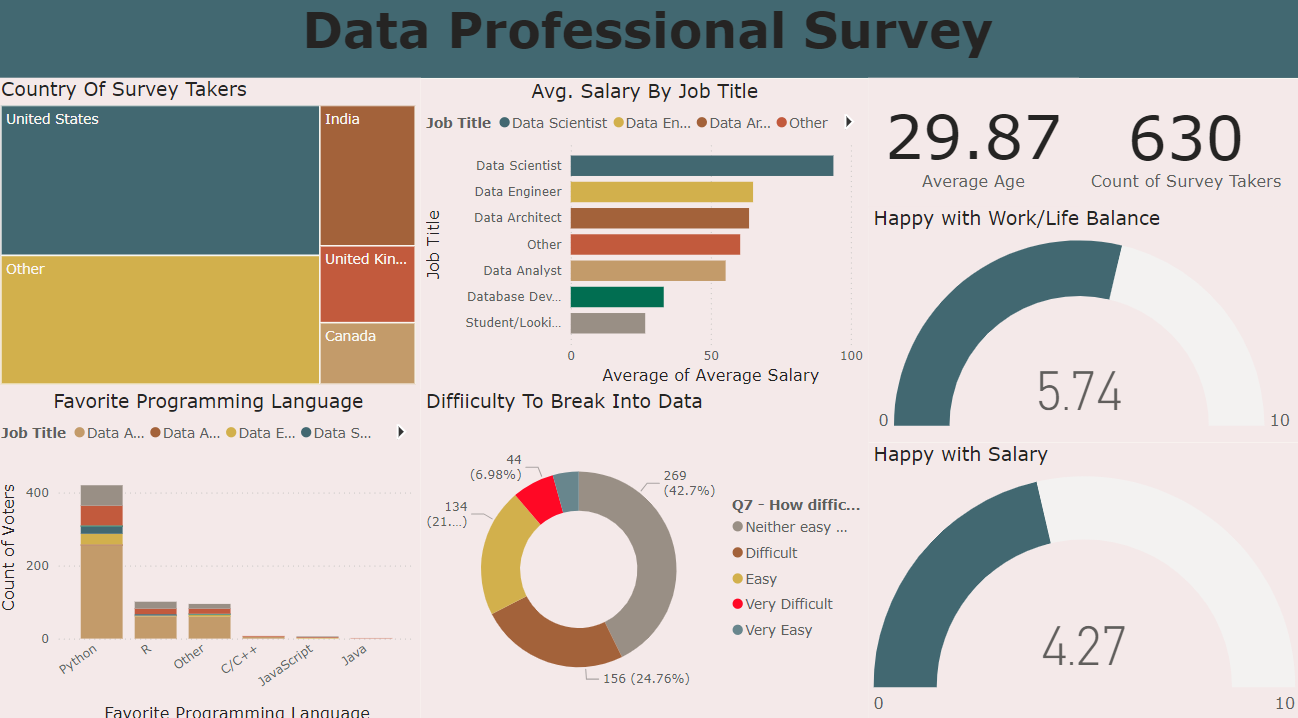

The page's visual inventory and layout, read from the dashboard file:
{"tool":"powerbi","page":{"name":"Page 1","canvas":[1280,720],"ordinal":0},"visuals":[{"type":"textbox","box":[0,0,1279.5,82.1],"z":0},{"type":"card","fields":{"Values":["Count(Data Professional Survey.Unique ID)"]},"box":[1056.1,83.3,223.9,125.6],"z":1000},{"type":"card","fields":{"Values":["Avg(Data Professional Survey.Q10 - Current Age)"]},"box":[855.8,82.1,206.5,126.9],"z":2000},{"type":"barChart","title":"Avg. Salary By Job Title","fields":{"Category":["Data Professional Survey.Q1 - Which Title Best Fits your Current Role?.1"],"Y":["Avg(Data Professional Survey.Average Salary)"],"Series":["Data Professional Survey.Q1 - Which Title Best Fits your Current Role?.1"]},"box":[416.7,83.3,439.1,304.8],"z":3000},{"type":"columnChart","title":"Favorite Programming Language","fields":{"Category":["Data Professional Survey.Q5 - Favorite Programming Language.1"],"Y":["CountNonNull(Data Professional Survey.Unique ID)"],"Series":["Data Professional Survey.Q1 - Which Title Best Fits your Current Role?.1"]},"box":[0,388.1,416.7,332.1],"z":4000},{"type":"treemap","title":"Country Of Survey Takers","fields":{"Group":["Data Professional Survey.Q11 - Which Country do you live in?.1"],"Values":["CountNonNull(Data Professional Survey.Q11 - Which Country do you live in?.1)"]},"box":[0,82.1,416.7,306],"z":5000},{"type":"gauge","title":"Happy with Work/Life Balance","fields":{"MinValue":["Min(Data Professional Survey.Q6 - How Happy are you in your Current Position with the following? (Work/Life Balance))1"],"MaxValue":["Max(Data Professional Survey.Q6 - How Happy are you in your Current Position with the following? (Work/Life Balance))"],"Y":["Avg(Data Professional Survey.Q6 - How Happy are you in your Current Position with the following? (Work/Life Balance))"]},"box":[855.8,209,424.2,231.4],"z":5001},{"type":"gauge","title":"Happy with Salary","fields":{"Y":["Avg(Data Professional Survey.Q6 - How Happy are you in your Current Position with the following? (Salary))"],"MinValue":["Min(Data Professional Survey.Q6 - How Happy are you in your Current Position with the following? (Salary))1"],"MaxValue":["Max(Data Professional Survey.Q6 - How Happy are you in your Current Position with the following? (Salary))2"]},"box":[855.8,440.4,424.2,279.9],"z":5002},{"type":"donutChart","title":"Diffiiculty To Break Into Data","fields":{"Y":["CountNonNull(Data Professional Survey.Q7 - How difficult was it for you to break into Data?)"],"Category":["Data Professional Survey.Q7 - How difficult was it for you to break into Data?"]},"box":[416.7,388.1,439.1,332.1],"z":5003}]}

Visuals, with their boxes in screenshot pixels (x1, y1, x2, y2), scaled from the page's 1280x720 canvas onto the 1298x718 screenshot:
textbox: pyautogui.locateOnScreen(0, 0, 1297, 82)
card - Count(Data Professional Survey.Unique ID): pyautogui.locateOnScreen(1071, 83, 1297, 208)
card - Avg(Data Professional Survey.Q10 - Current Age): pyautogui.locateOnScreen(868, 82, 1077, 208)
"Avg. Salary By Job Title" barChart: pyautogui.locateOnScreen(423, 83, 868, 387)
"Favorite Programming Language" columnChart: pyautogui.locateOnScreen(0, 387, 423, 717)
"Country Of Survey Takers" treemap: pyautogui.locateOnScreen(0, 82, 423, 387)
"Happy with Work/Life Balance" gauge: pyautogui.locateOnScreen(868, 208, 1297, 439)
"Happy with Salary" gauge: pyautogui.locateOnScreen(868, 439, 1297, 717)
"Diffiiculty To Break Into Data" donutChart: pyautogui.locateOnScreen(423, 387, 868, 717)
